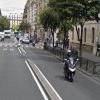Motorcycle: (57, 50, 83, 89)
